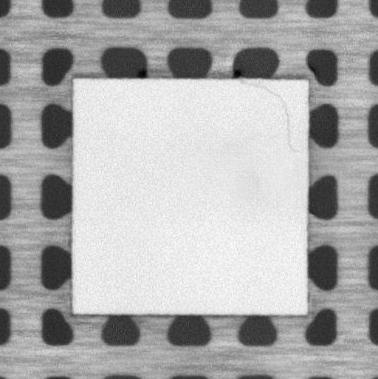DIE_CRACK: (240, 81, 301, 154)
